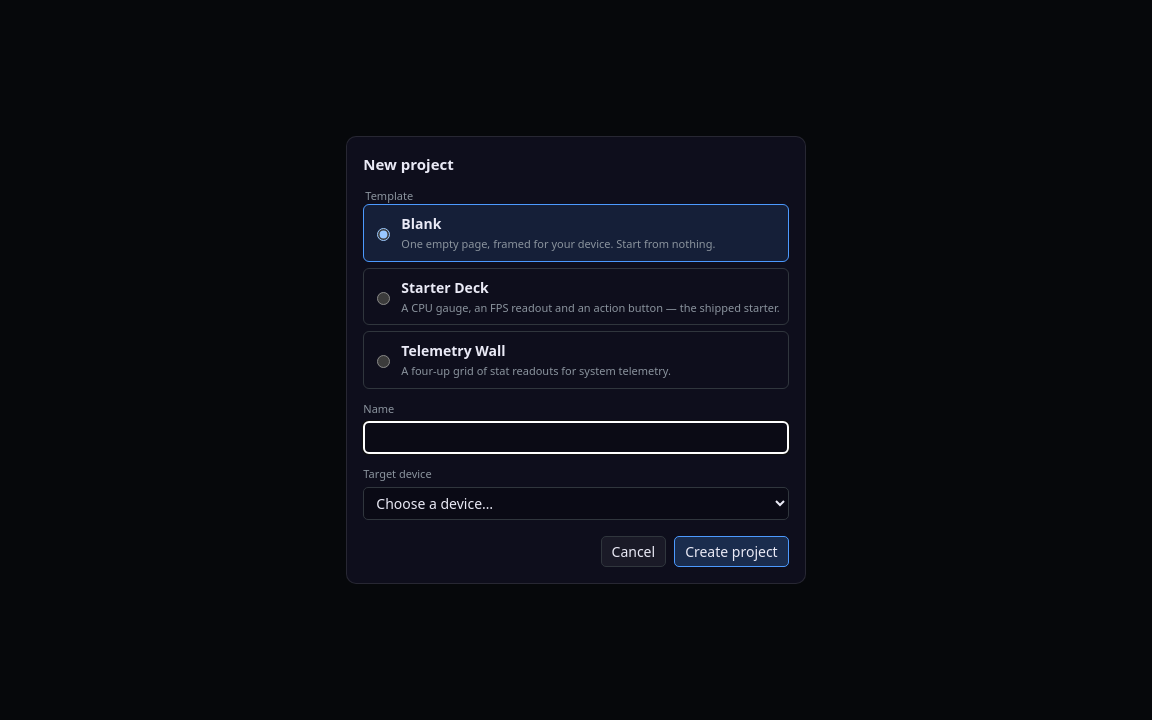
Scenario: NewProjectWizard — invalid input blocked with inline errors (CD-406) › clears an inline error the moment the field is corrected
Click the button with test id "wizard-create": (731, 551) [674,536,789,567]
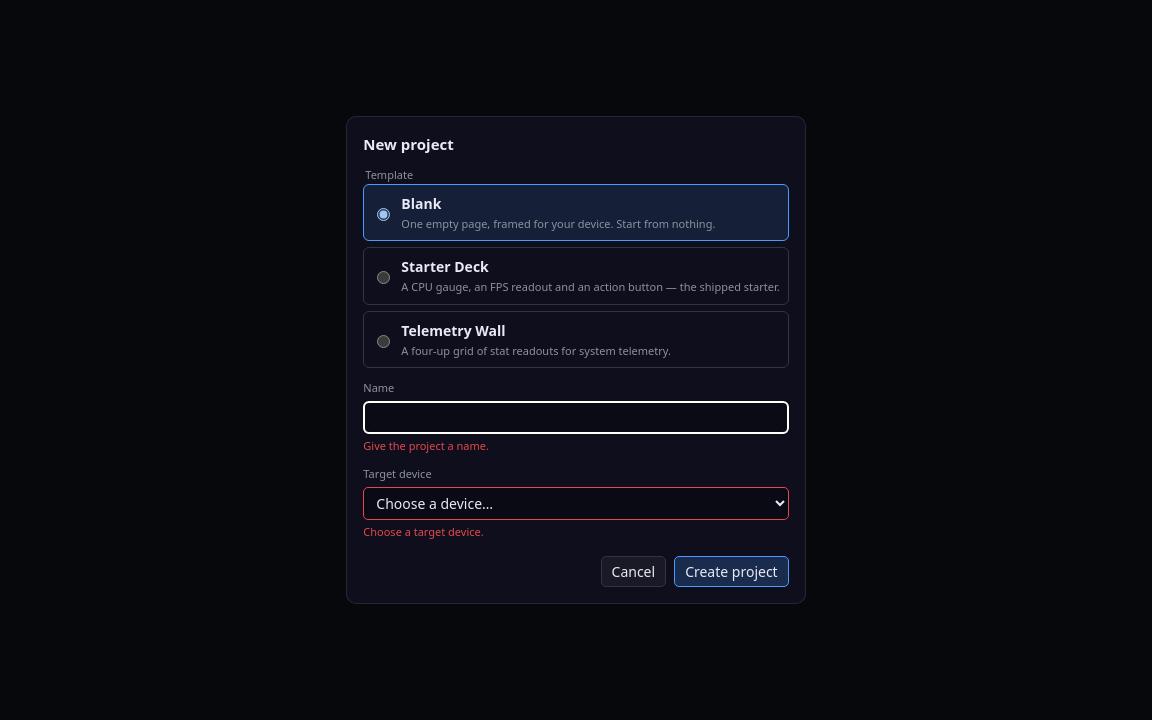
Now the message "Give the project a name." is shown, box [363,438,489,453]
In the field labelled "Name": (576, 417) [363,401,789,434], type "Rig"
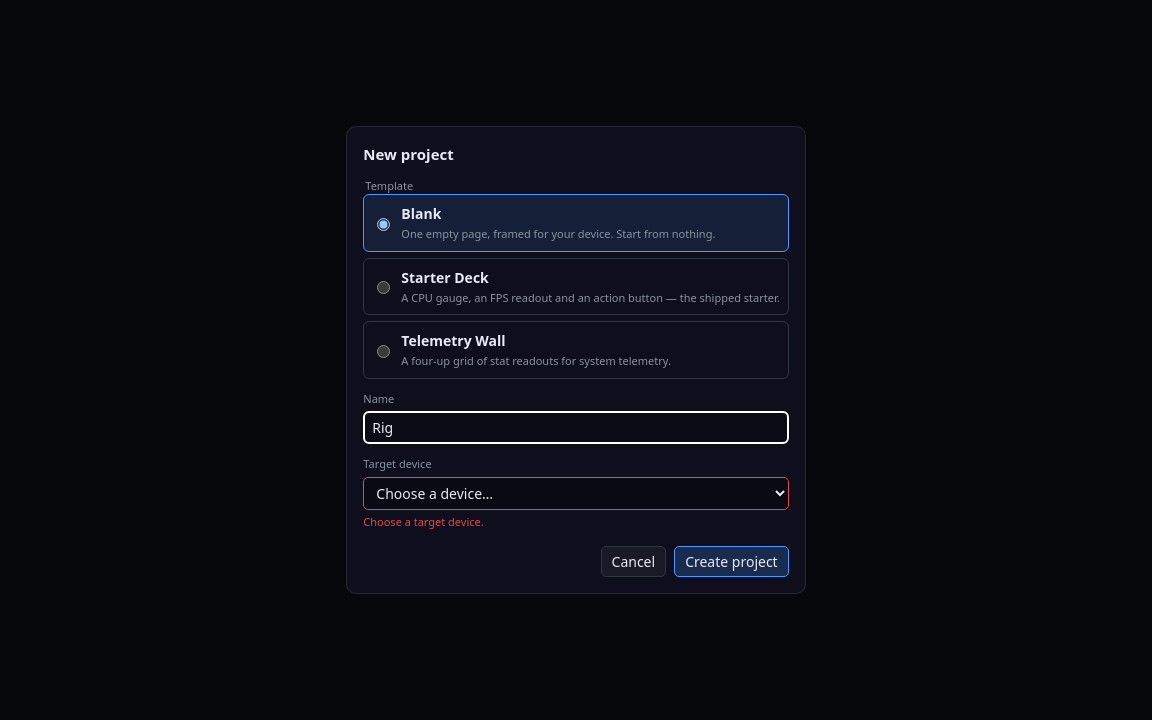
Now the message "Choose a target device." is shown, box [363,514,484,528]
Now the message with test id "error-name" is gone
